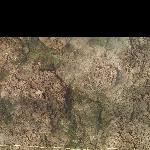dead: (2, 37, 149, 148)
